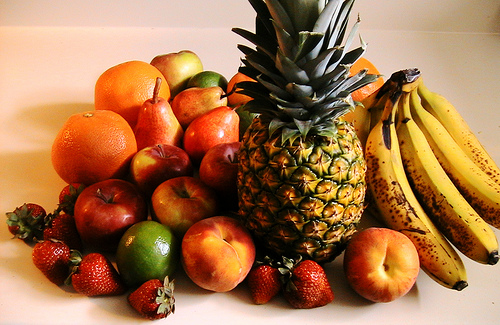pineapple: (220, 0, 385, 266)
